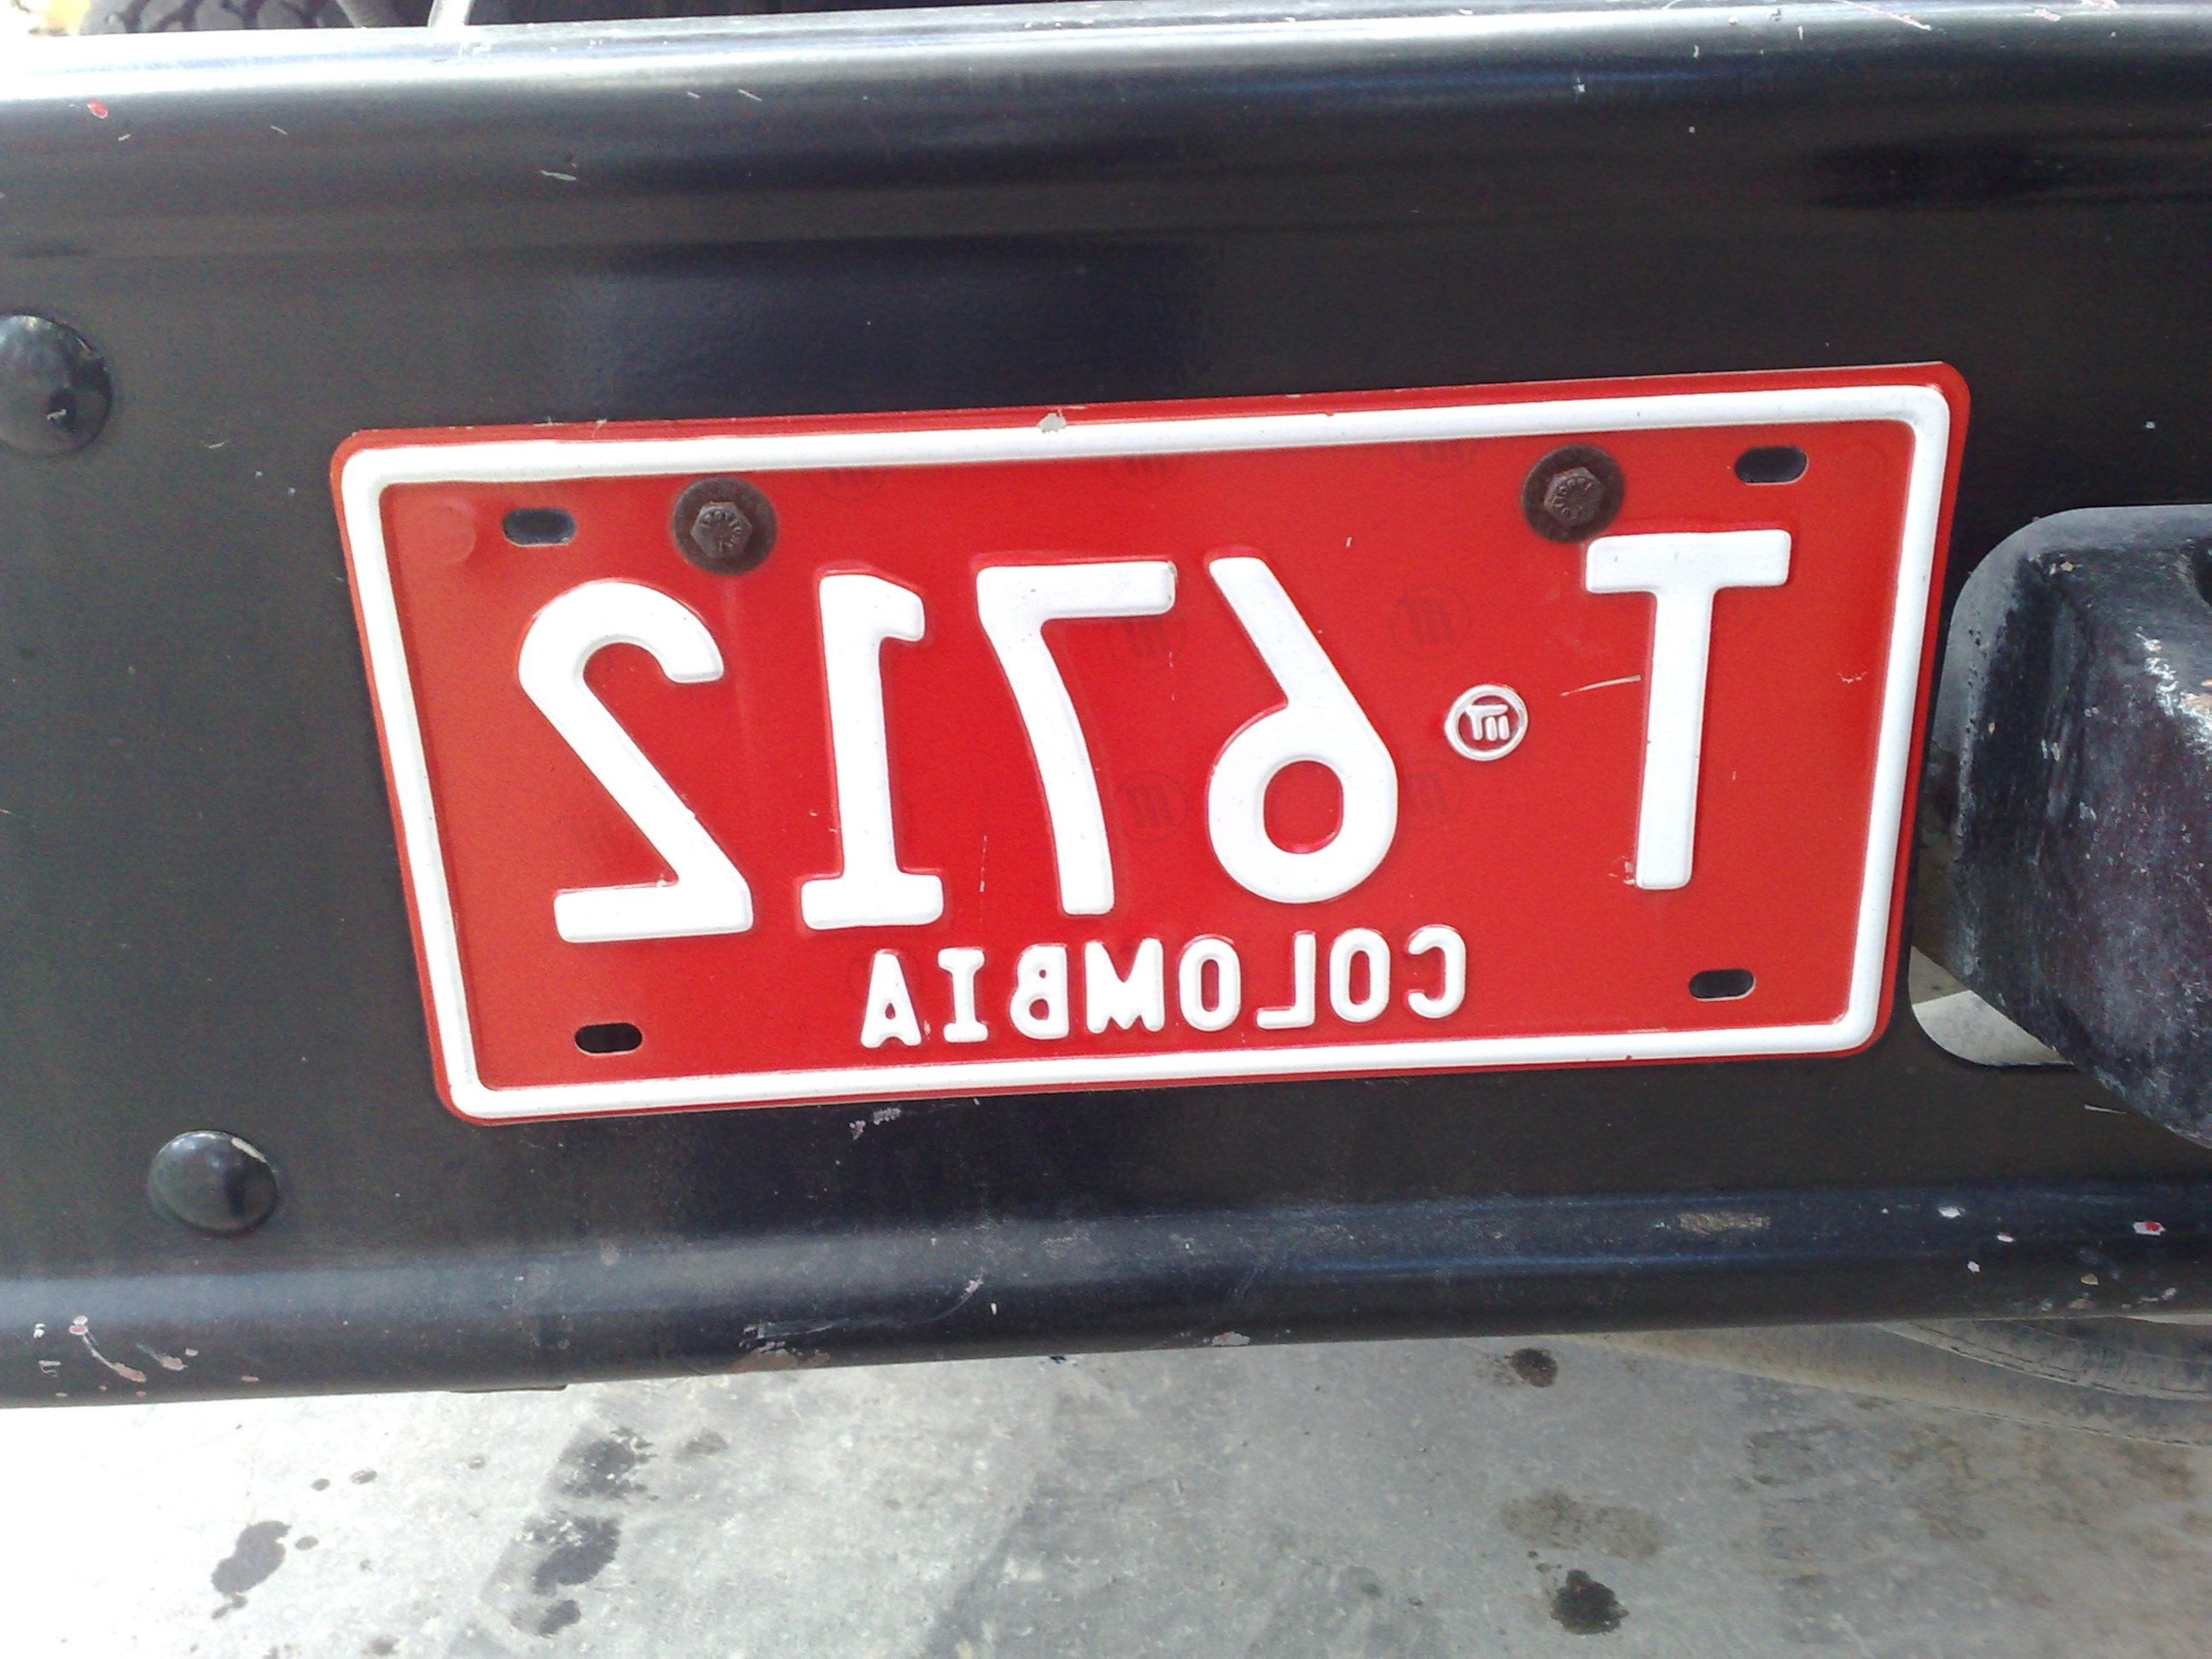placas: (325, 323, 2006, 1140)
